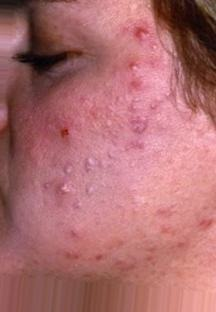Acne: (41, 13, 210, 284)
